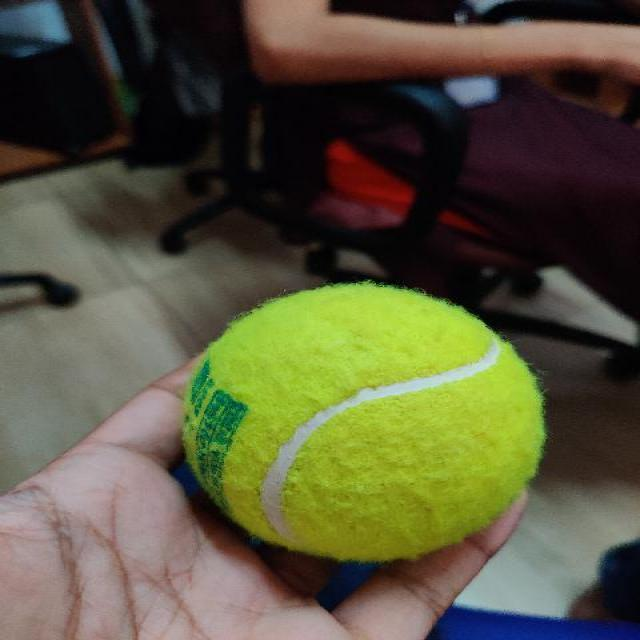tennis-ball: (185, 286, 543, 559)
